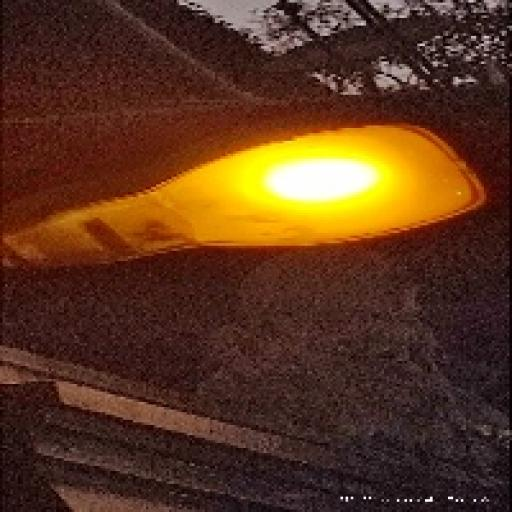Working: (0, 94, 499, 314)
